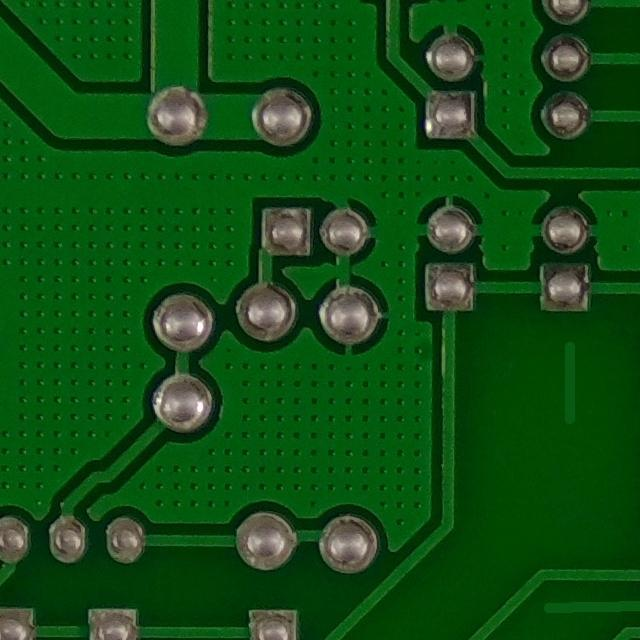spurious_copper: (530, 584, 640, 640), (546, 329, 600, 443)
